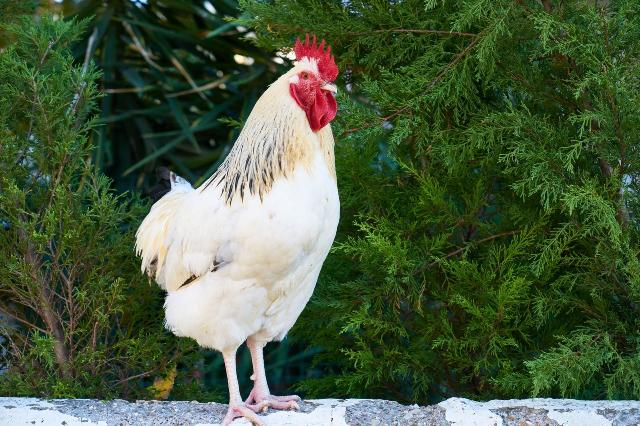Chicken: (136, 30, 342, 425)
